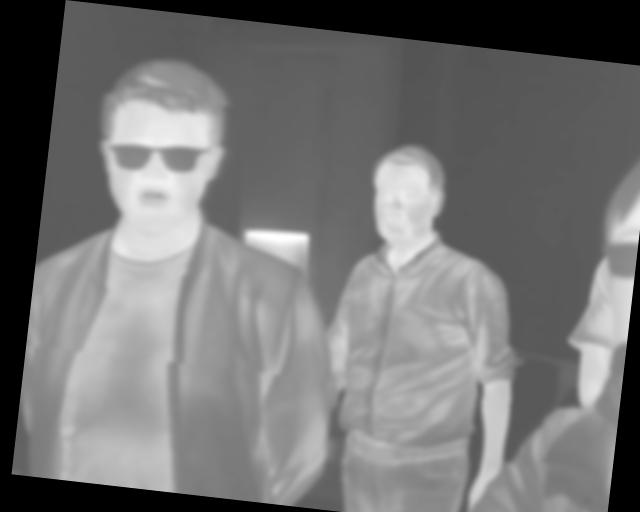face: (87, 49, 235, 241), (364, 138, 451, 250)
